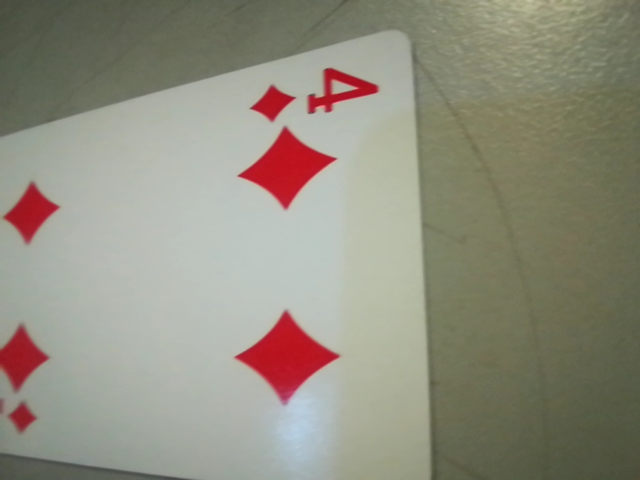fk 4: (239, 67, 385, 122)
